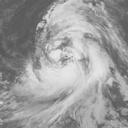cyclone: (37, 29, 97, 88)
